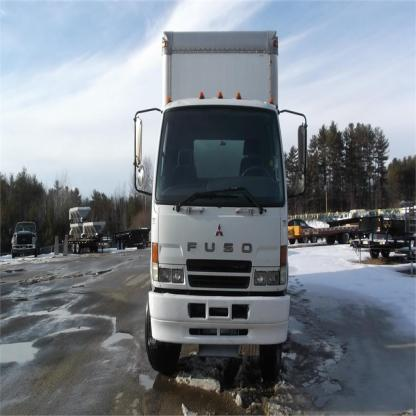truck: (134, 28, 309, 372)
